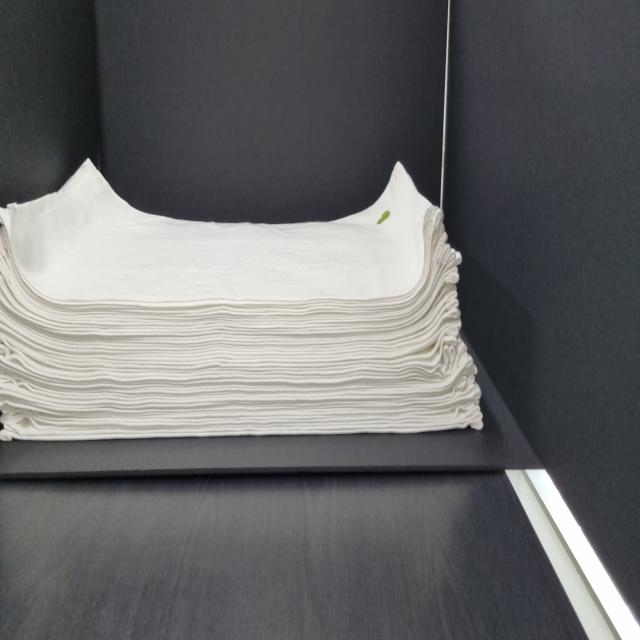not_50count_towel: (0, 143, 507, 461)
